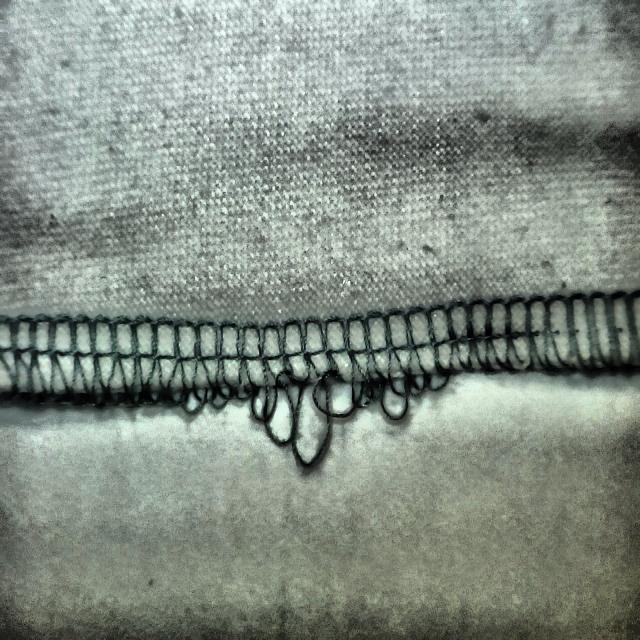Stitch: (182, 304, 450, 468)
